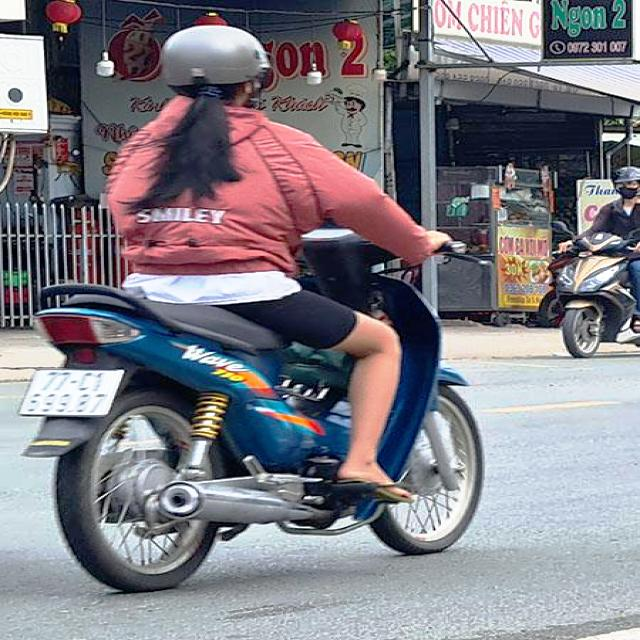license_plate: (21, 370, 126, 418)
